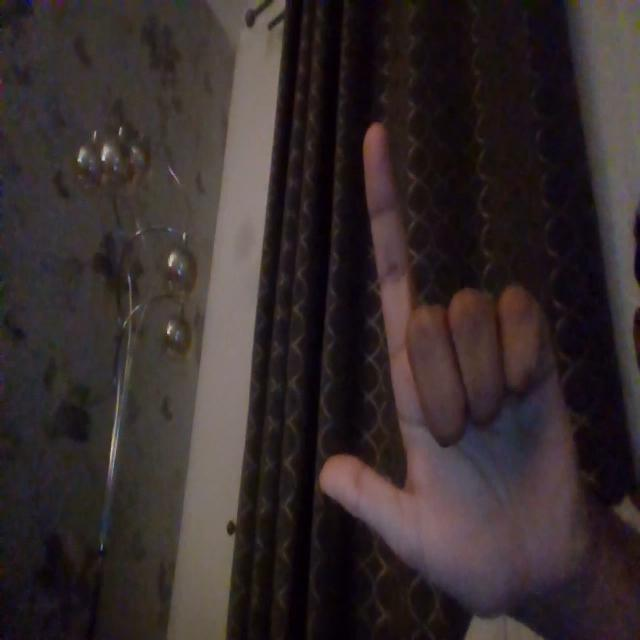hand thumb and index out: (317, 121, 603, 618)
